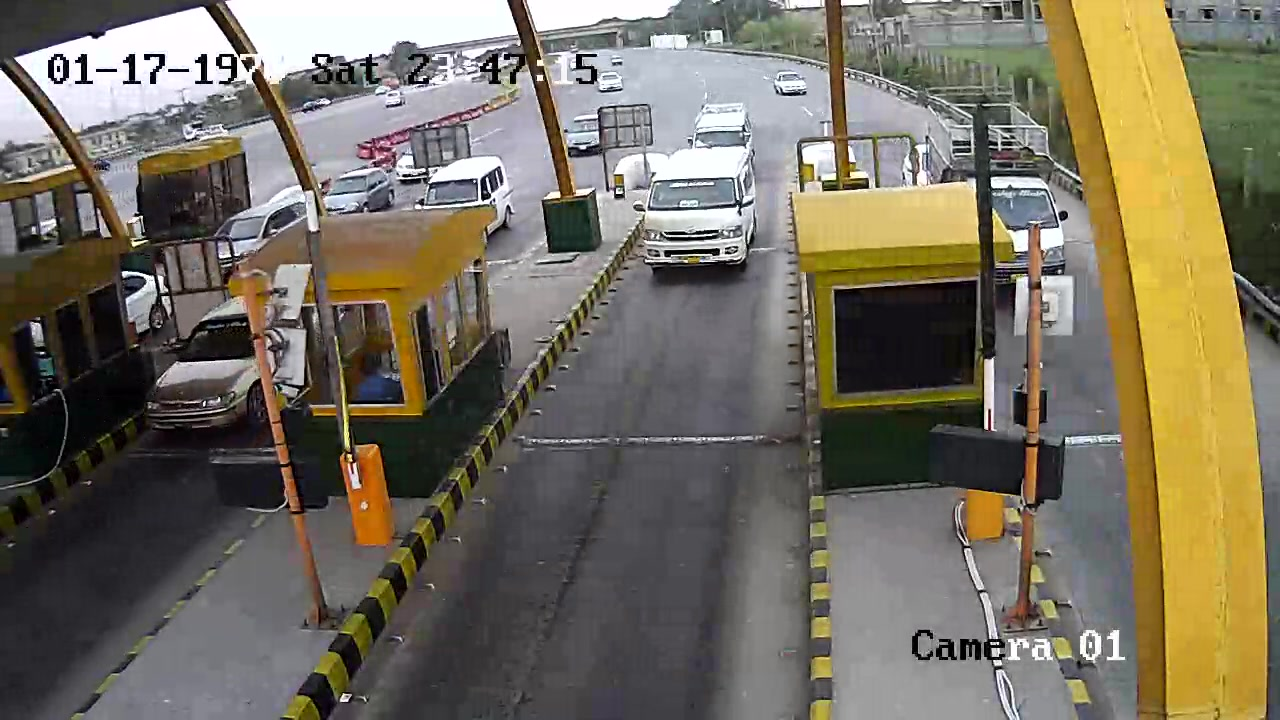F2: (642, 145, 770, 287)
